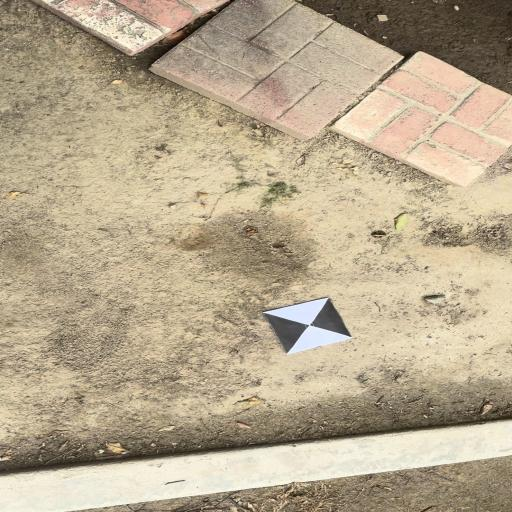target: (263, 299, 350, 354)
